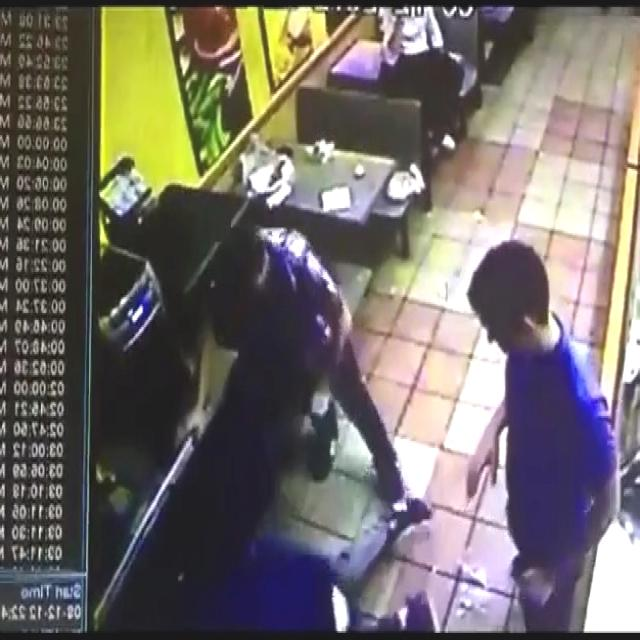fight: (220, 209, 438, 640)
